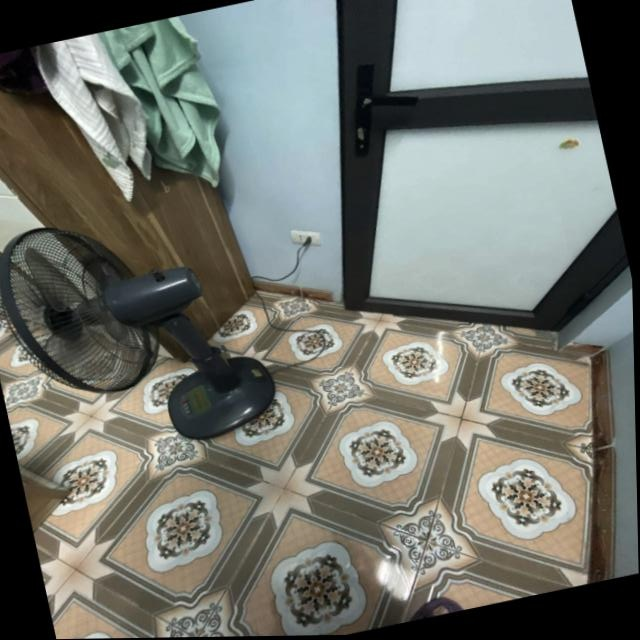outlet: (289, 225, 323, 253)
